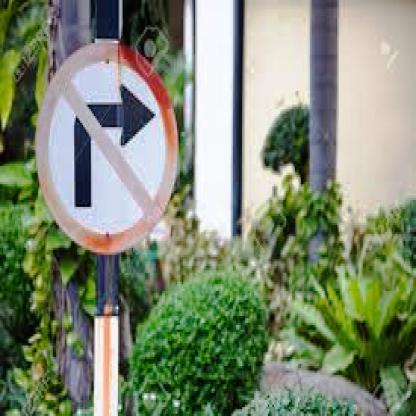No right turn: (32, 43, 181, 255)
